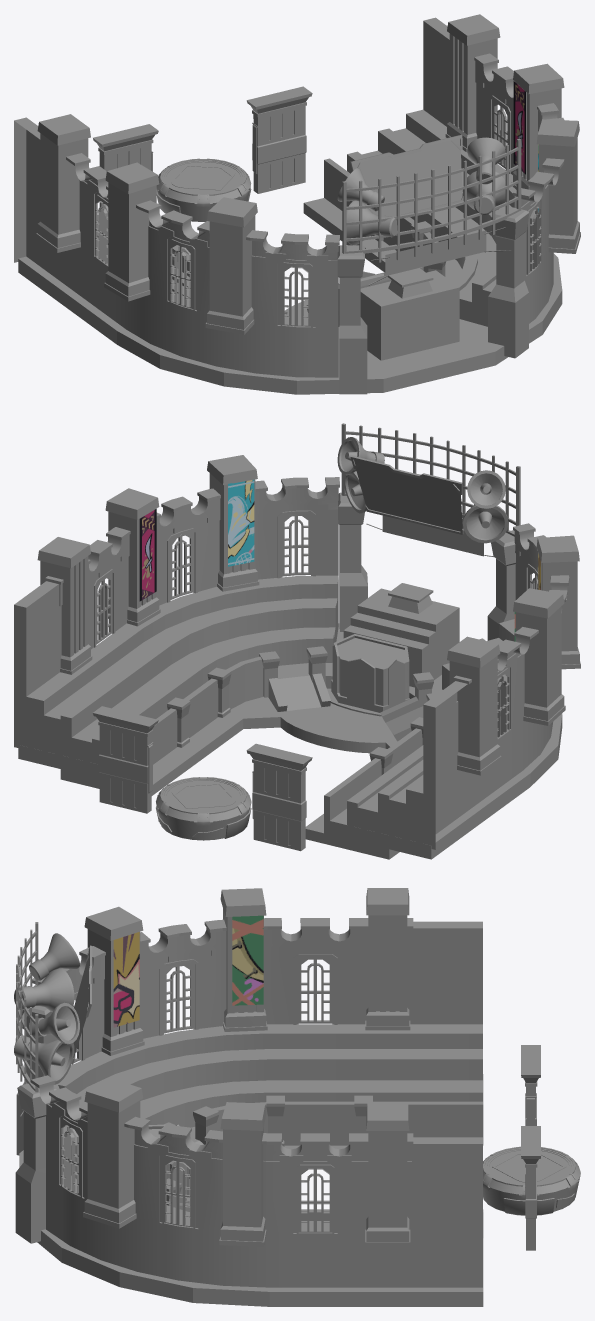
Rendered from Stage.fbx.
3 renders of one model, top to bottom at view 1: azimuth 30°, elevation 25°; view 2: azimuth 150°, elevation 25°; view 3: azimuth 270°, elevation 25°, orthographic. The views are drawn at different scales.
Parts seen in each view (by area): view 1: Wall01, Floor, Podium01, Podium02, Screen, Column01, Main_Floor, Curtain_Welcome, Column02, Speaker04, Speaker03, Podium03 (+3 smaller); view 2: Wall01, Floor, Podium02, Podium04, Screen, Column02, Main_Floor, Column01, Podium01, Curtain02, Curtain_Welcome, Curtain01 (+9 smaller); view 3: Wall01, Floor, Main_Floor, Curtain04, Curtain03, Podium01, Column01, Speaker03, Speaker04, Speaker01, Speaker02, Column02 (+4 smaller).
Boxes of the visible parts, x1,y1,x2,y2 form: Wall01: (14,14,580,394); Floor: (18,109,562,394); Podium01: (342,138,521,262); Podium02: (360,270,459,360); Screen: (350,134,463,216); Column01: (246,86,312,193); Main_Floor: (156,158,251,221); Curtain_Welcome: (369,230,511,285); Column02: (93,124,158,216); Speaker04: (346,200,397,245); Speaker03: (462,171,505,214); Podium03: (388,268,433,298); Wall01: (14,455,580,849); Floor: (18,575,562,859); Podium02: (343,588,459,687); Podium04: (327,634,409,716); Screen: (350,455,463,534); Column02: (246,743,312,851); Main_Floor: (156,777,251,840); Column01: (93,706,158,813); Podium01: (341,423,520,536); Curtain02: (228,479,254,566); Curtain_Welcome: (366,515,493,556); Curtain01: (139,509,156,601); Wall01: (15,888,482,1287); Floor: (19,1024,483,1306); Main_Floor: (483,1146,580,1215); Curtain04: (232,915,263,1005); Curtain03: (113,932,139,1027); Podium01: (15,922,38,1116); Column01: (521,1126,540,1250); Speaker03: (14,1035,74,1084); Speaker04: (14,968,74,1012); Speaker01: (29,1002,79,1044); Speaker02: (29,933,79,980); Column02: (521,1045,540,1125).
Size of the model in its own units: 2567 by 1230 by 2626.
